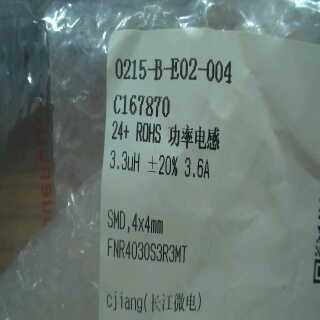3.3uH: (107, 144, 141, 184)
